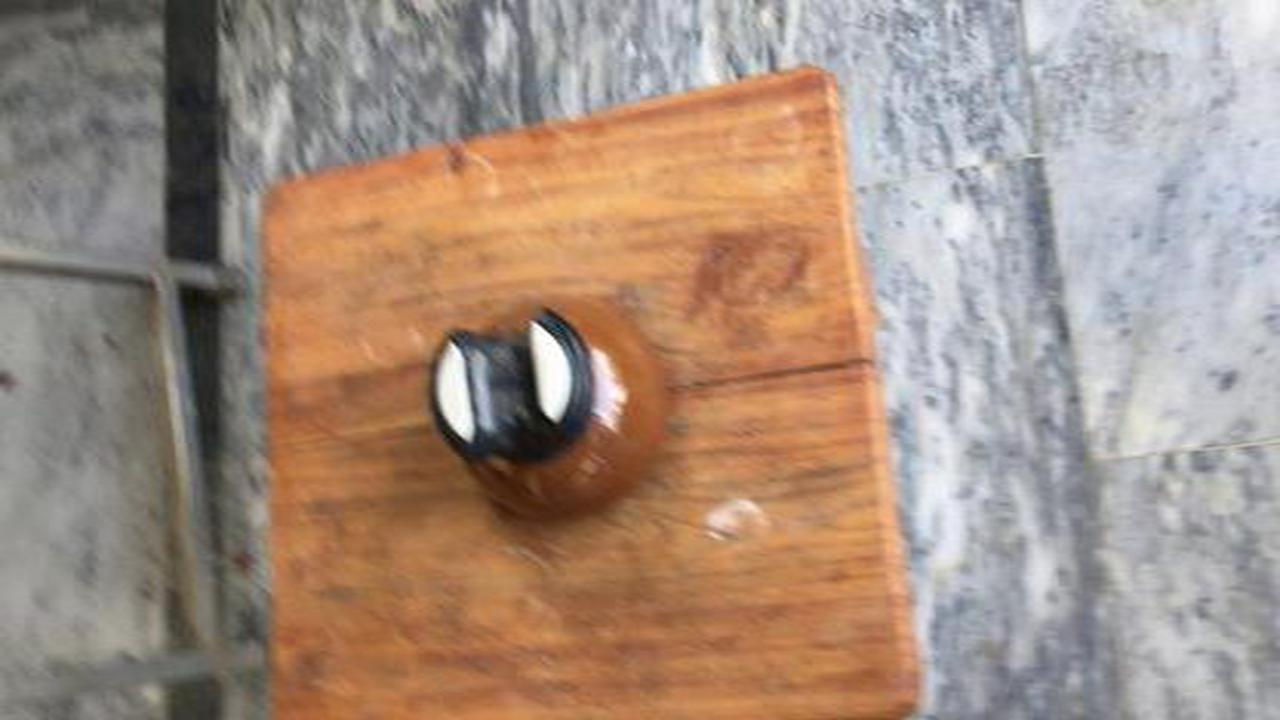insulator_pin: (400, 290, 708, 541)
